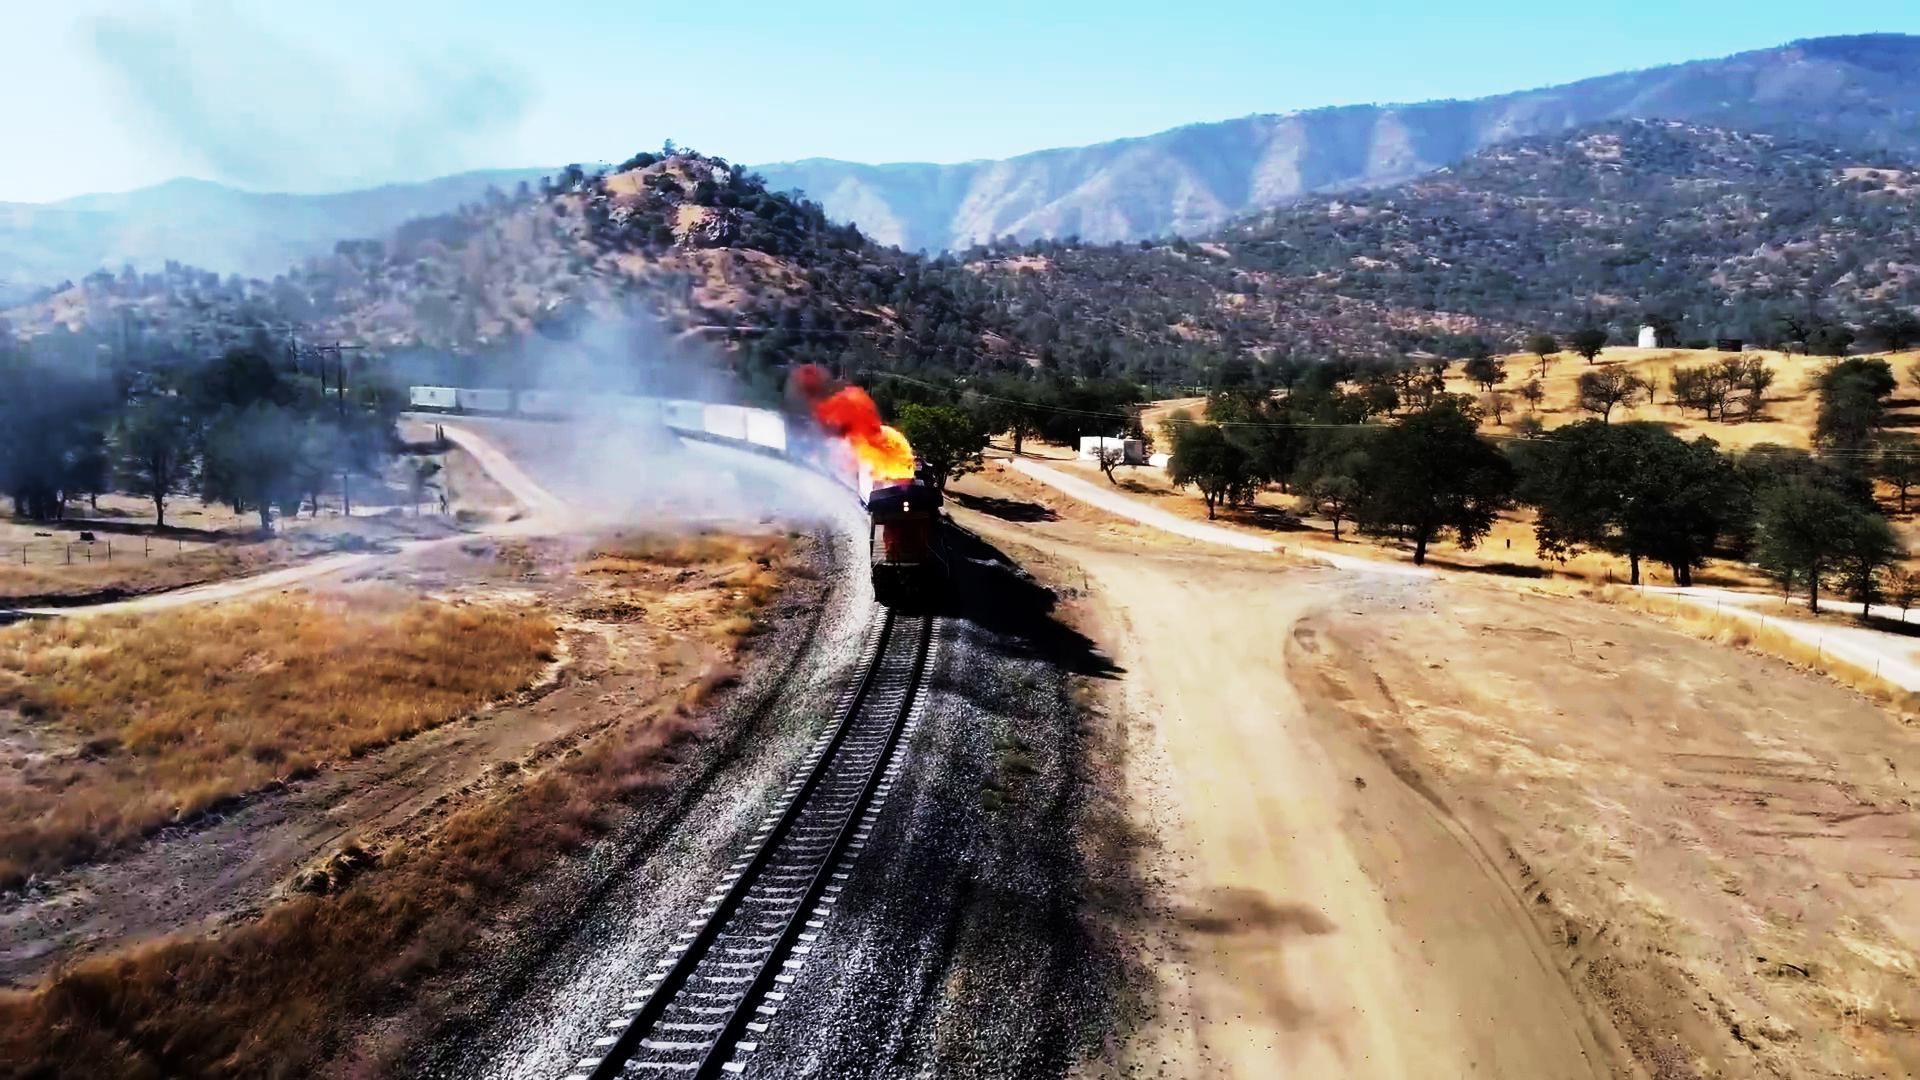fire: (810, 386, 923, 480)
smoke: (570, 344, 705, 542)
